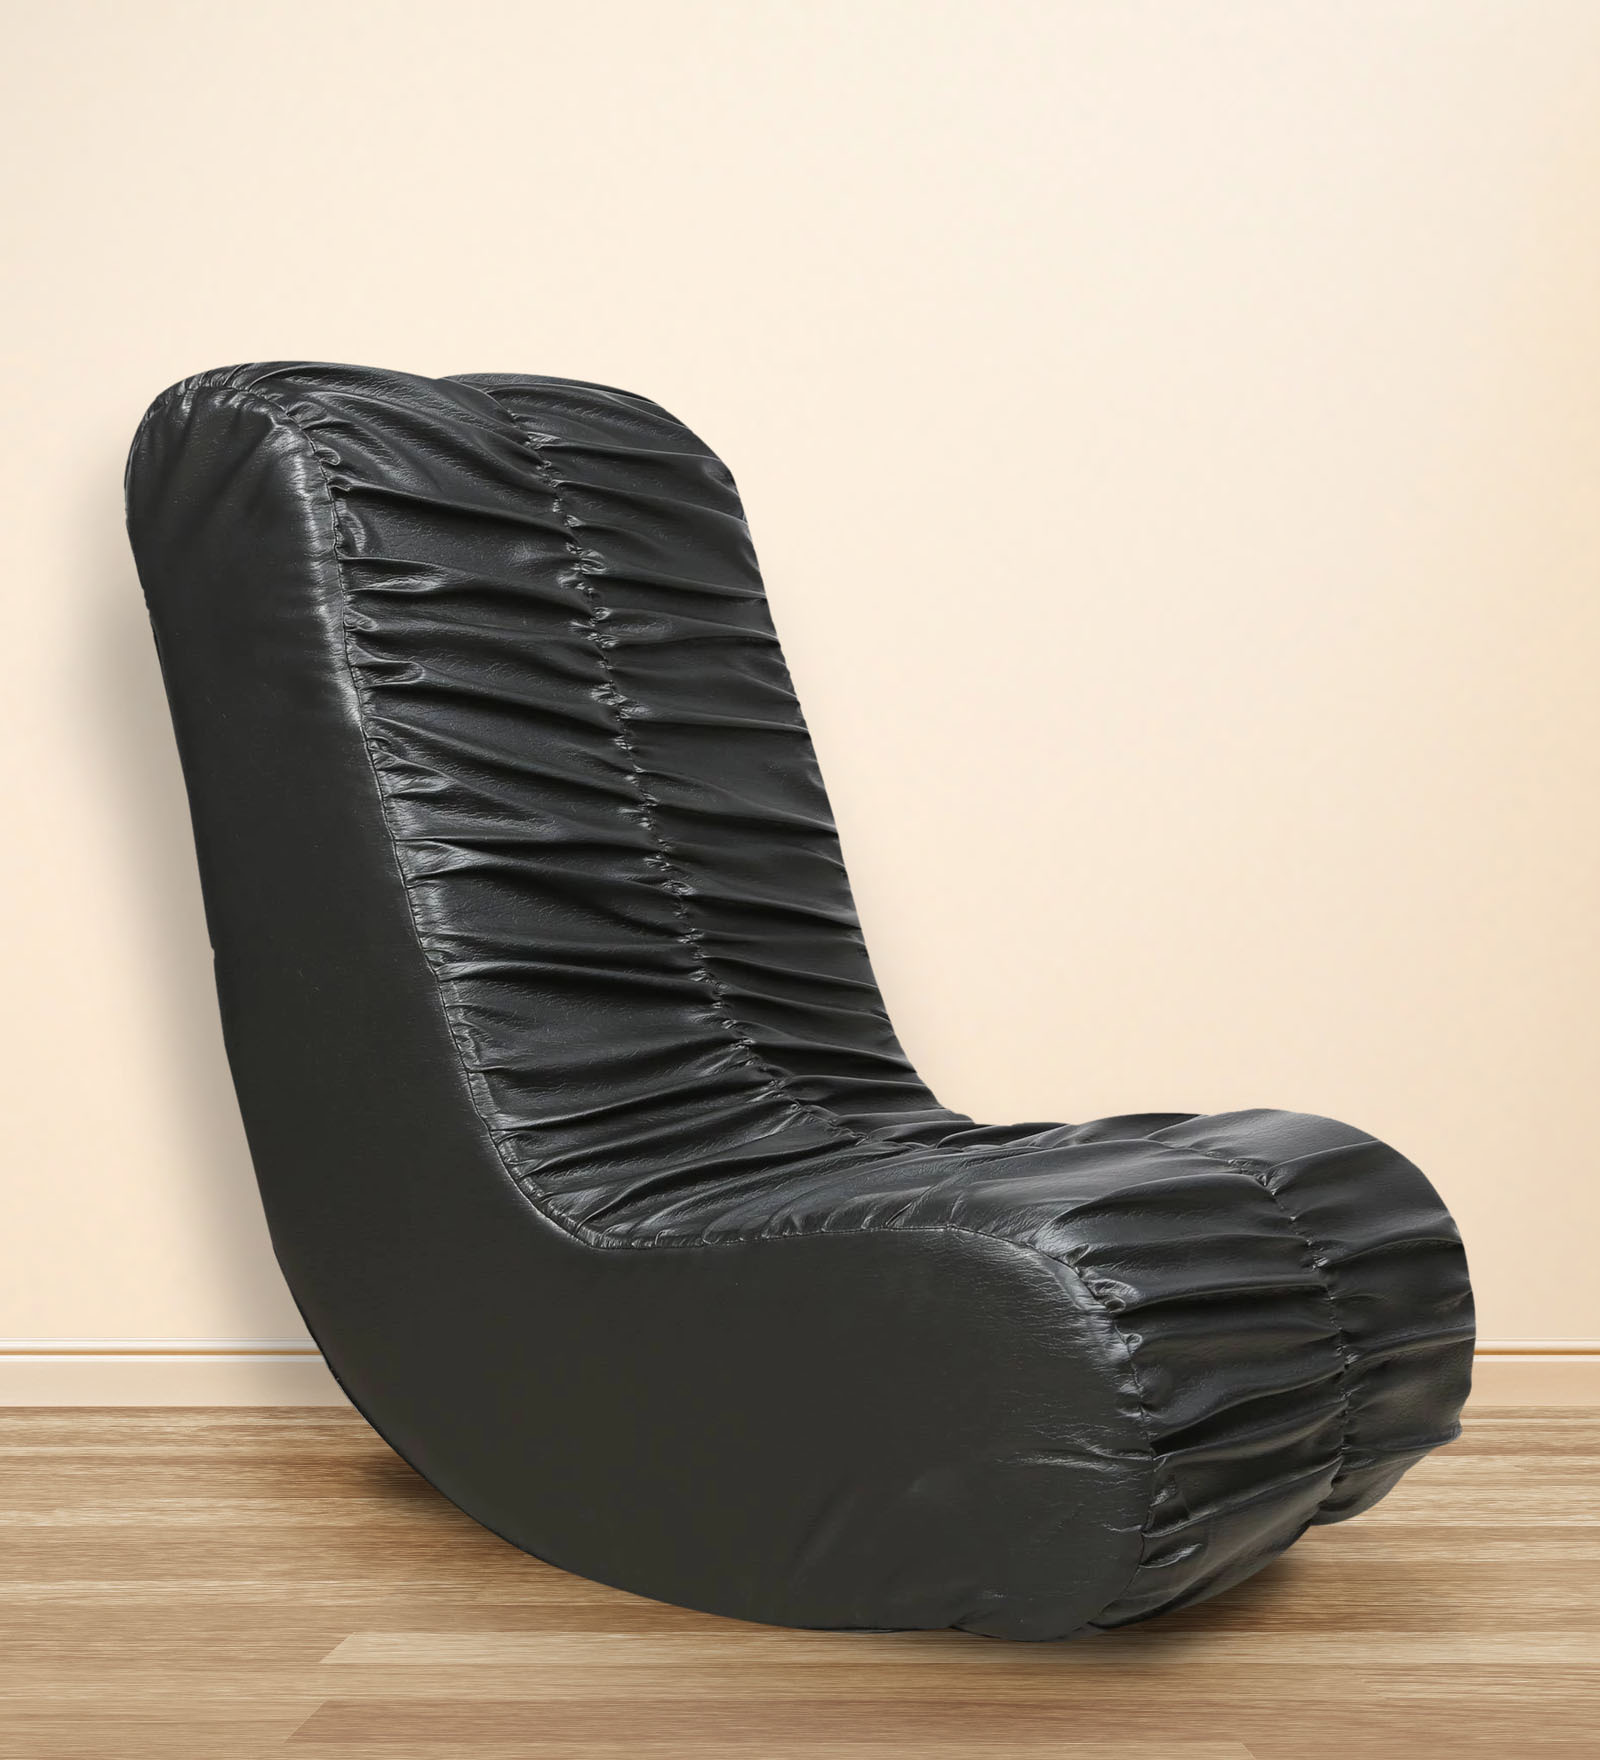Daisy Rocking Chair in Black Colour by Parin: (64, 317, 1511, 1682)
